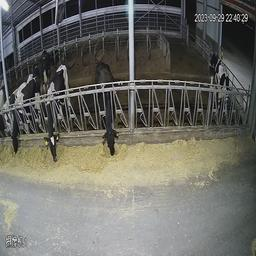cow: (41, 57, 77, 166), (89, 52, 125, 160), (7, 69, 38, 164), (206, 44, 234, 123), (34, 43, 56, 84)
